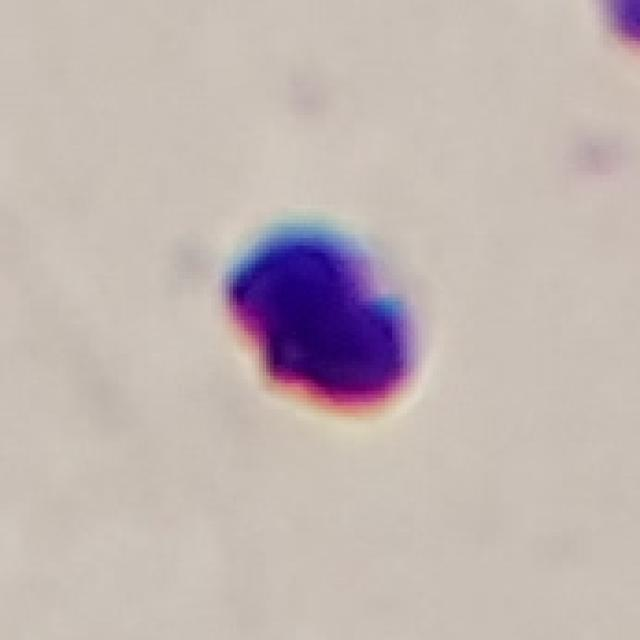non-sperm: (225, 219, 424, 422)
